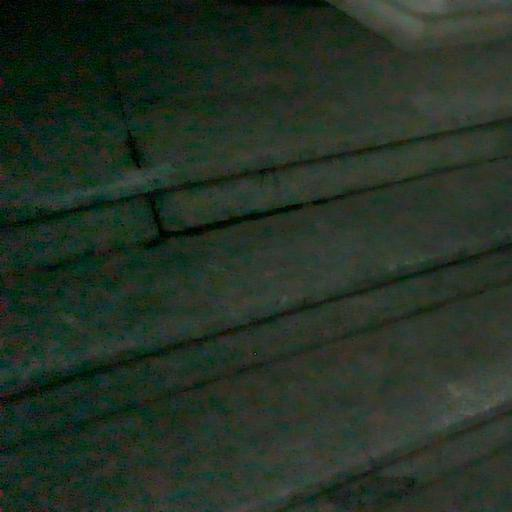Stairs: (0, 159, 512, 512)
